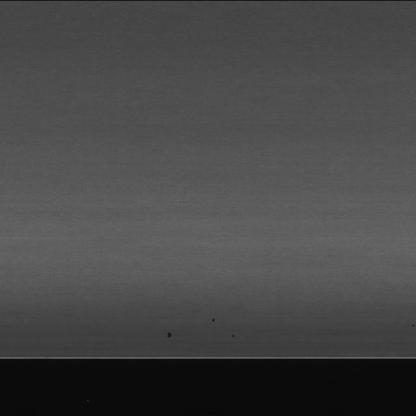inclusion: (200, 314, 220, 324), (222, 330, 238, 340)
oil_spot: (159, 327, 178, 341)
